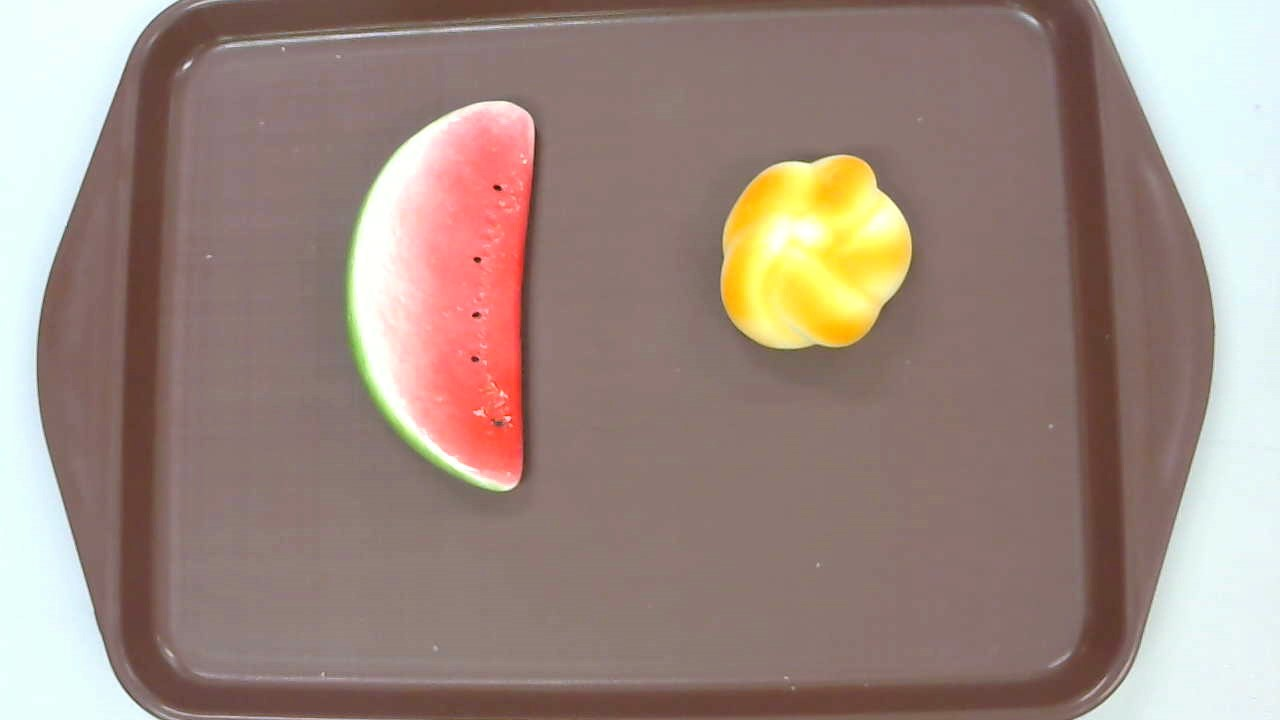twist bread: (720, 154, 911, 351)
water melon: (341, 99, 537, 494)
